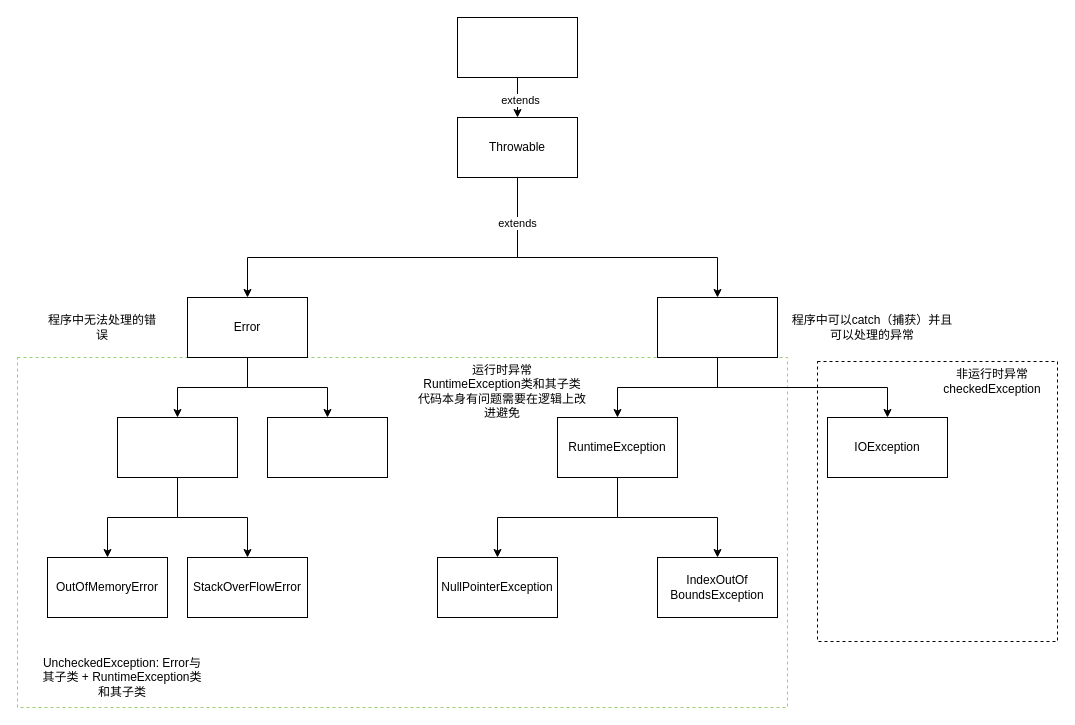
Some shapes in this 1075 by 725 pixel diagram are drawn without their labels. Here are the shapes that lost their labels. From the top down, the box of each, then its label:
(456, 16, 578, 78): Object
(656, 296, 778, 358): Exception
(116, 416, 238, 478): VirtualMachineError
(266, 416, 388, 478): AWTError
